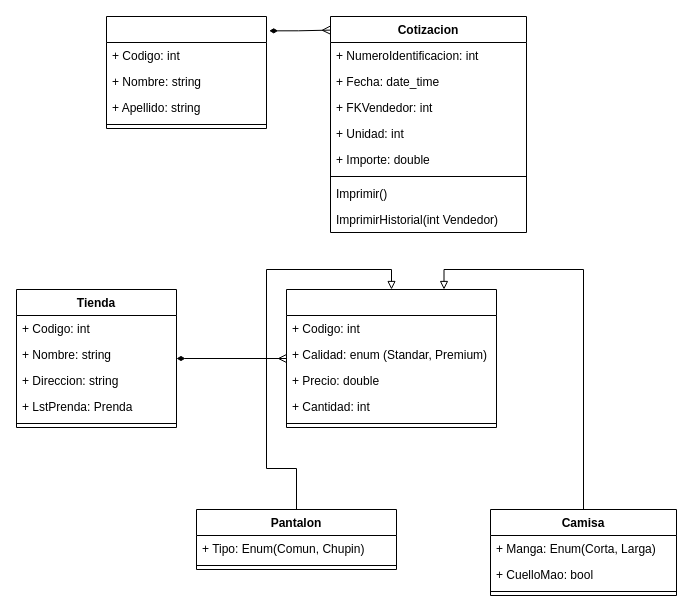
Some shapes in this 693 by 612 pixel diagram are drawn without their labels. The shapes that lost their labels are listed below. From the top down, each one's box as (x1, y1, x2, y2) in pixels, then its label:
(106, 16, 266, 128): Vendedor
(286, 288, 496, 428): Prenda
